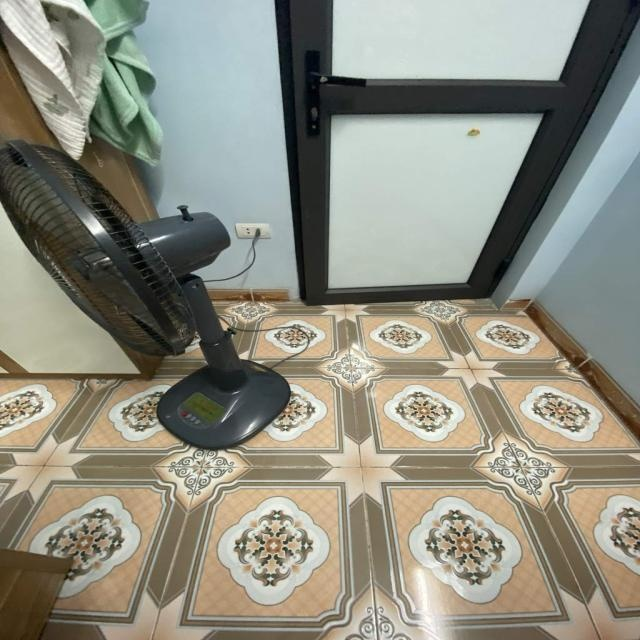outlet: (234, 222, 270, 238)
